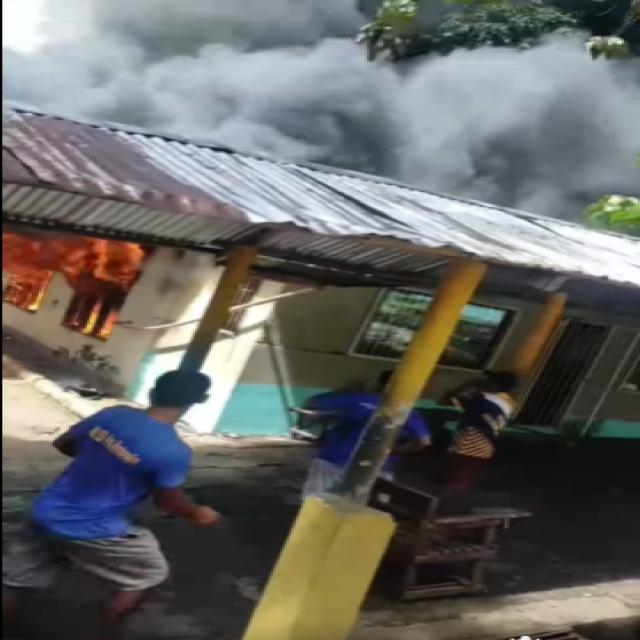Fire: (0, 226, 149, 334)
Smoke: (0, 0, 640, 220)
